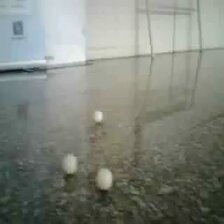w: (94, 167, 112, 189), (61, 154, 77, 173), (93, 110, 102, 121)
